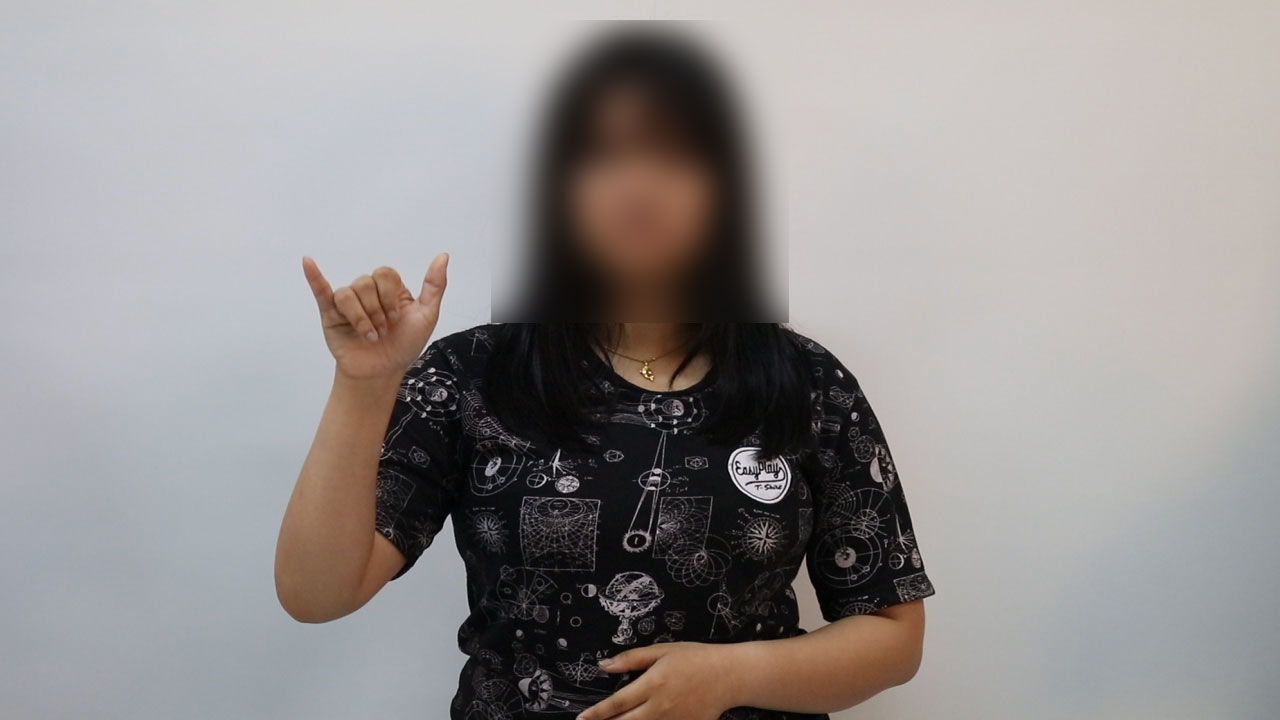yor: (297, 245, 462, 385)
